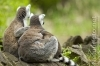cat: (0, 3, 31, 53), (27, 14, 57, 62)
